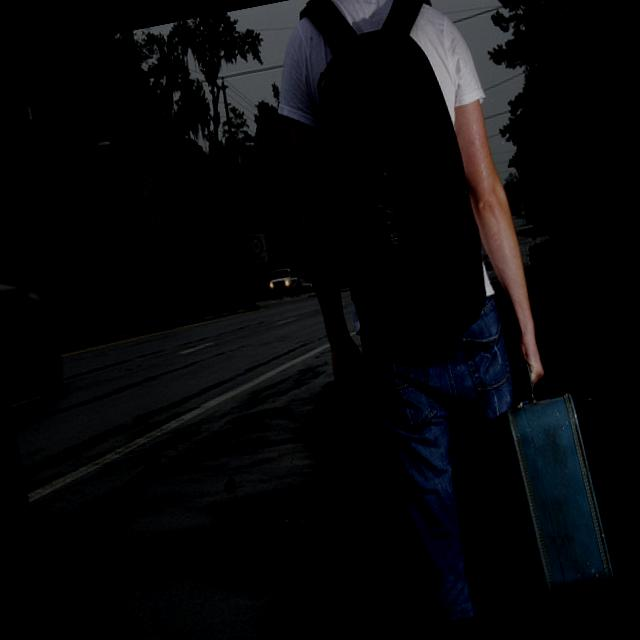Vehicle: (0, 209, 69, 381), (266, 264, 302, 301), (267, 266, 302, 300), (297, 276, 316, 294)
